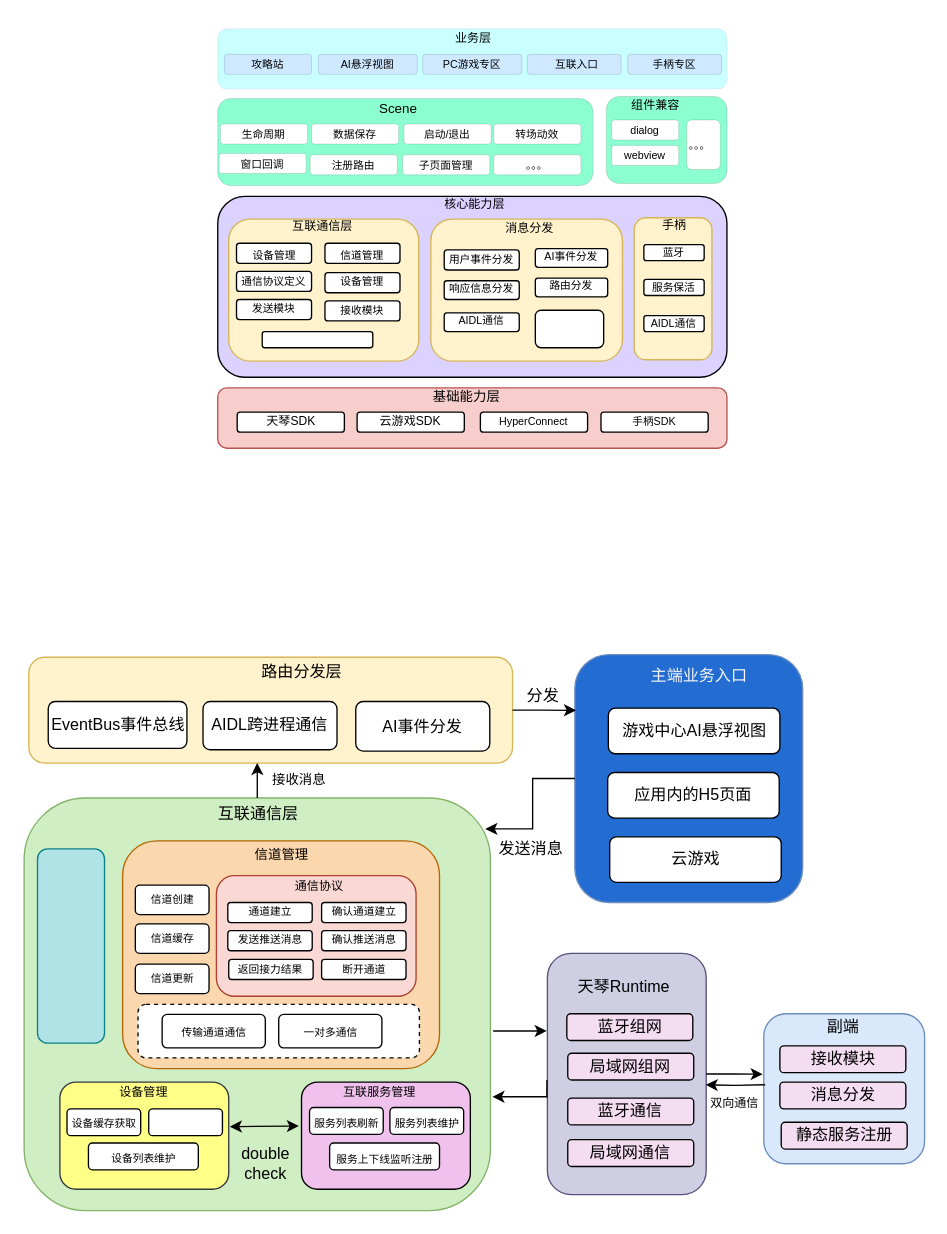
Some shapes in this 947 by 1234 pixel diagram are drawn without their labels. Here are the shapes that lost their labels. From the top down, the centre of each, then its label:
At (x=317, y=339): "云控统一拦截".
At (x=569, y=328): "云游戏存活监听".
At (x=70, y=945): "云控统一插桩拦截".
At (x=184, y=1122): "设备组网监听".
